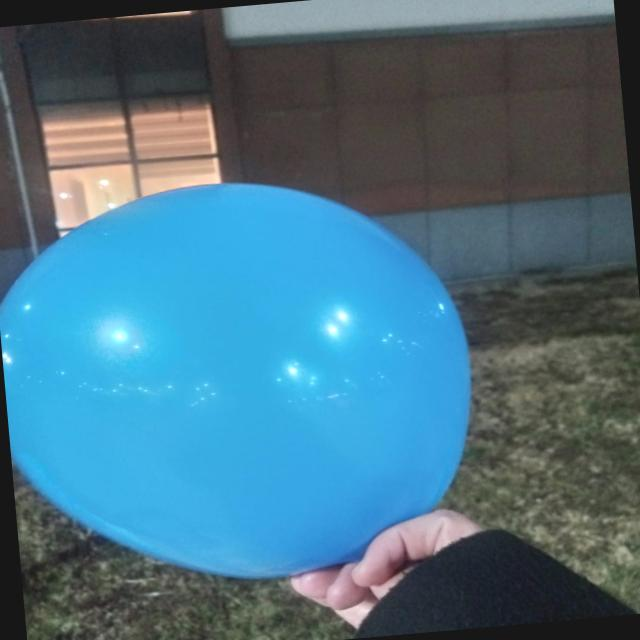balloon: (0, 183, 470, 577)
